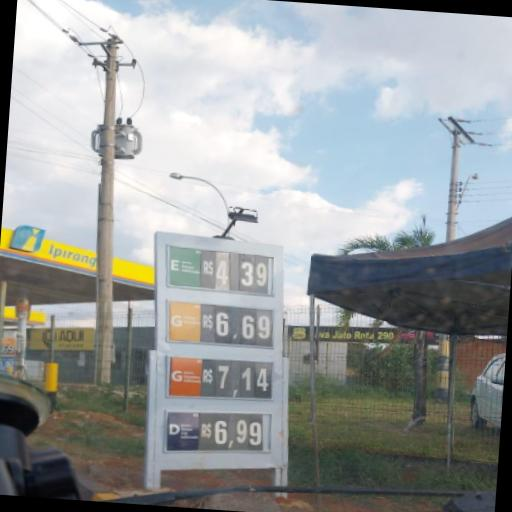ETANOL: (169, 245, 201, 288)
GASOLINA AD: (170, 358, 204, 398)
GASOLINA C: (169, 301, 201, 341)
S10: (166, 412, 200, 452)
placa: (146, 232, 287, 470)
preco: (213, 304, 273, 349), (213, 252, 273, 295), (216, 360, 273, 398), (213, 414, 264, 450)
